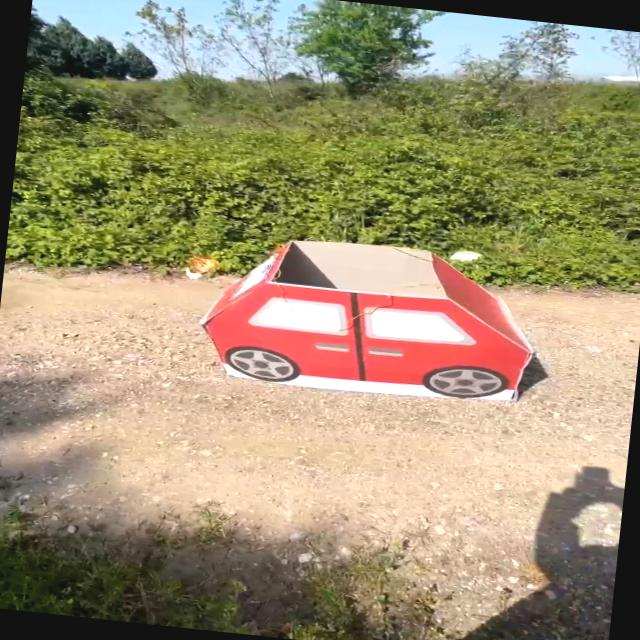red_car: (157, 215, 600, 418)
